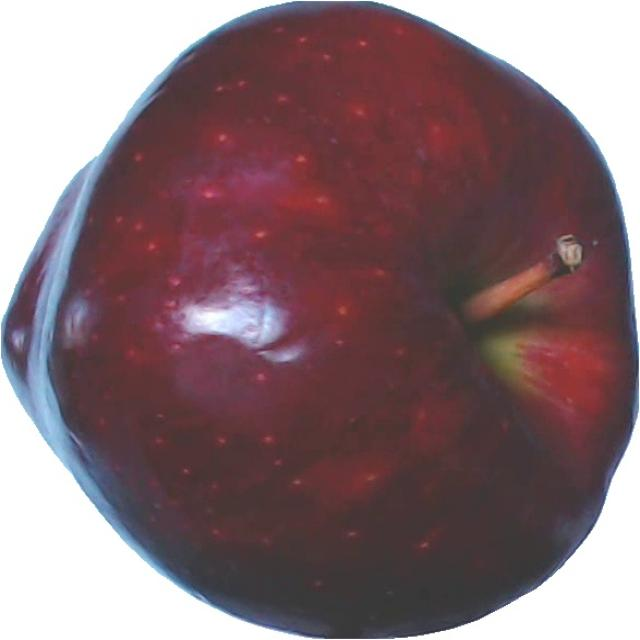Scartlet Spur Elma: (1, 0, 637, 637)
